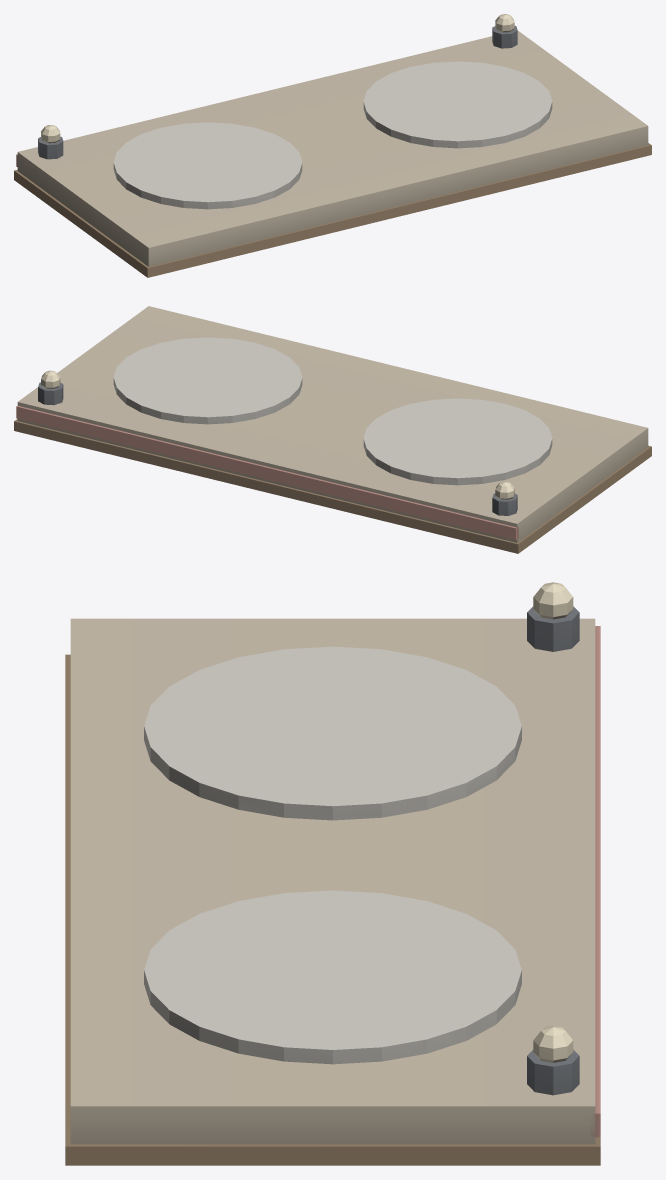
The model's file is wear_mannequin_stage.glb.
3 views of the same model, one above another, from view 1: azimuth 30°, elevation 25°; view 2: azimuth 150°, elevation 25°; view 3: azimuth 270°, elevation 25° (orthographic). The views are drawn at different scales.
Parts seen in each view (by area): view 1: wear.mannequin_stage; view 2: wear.mannequin_stage; view 3: wear.mannequin_stage.
Part boxes in pixels (<box>): wear.mannequin_stage: <box>14,14,651,277</box>; wear.mannequin_stage: <box>14,306,651,553</box>; wear.mannequin_stage: <box>65,582,600,1165</box>.
Bounding box in the file's own units: 2.22 × 0.24 × 1.02.
